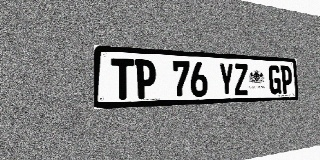6: (190, 62, 208, 97)
7: (171, 61, 190, 98)
G: (268, 65, 281, 94)
P: (135, 59, 156, 99), (280, 66, 293, 94)
T: (111, 58, 134, 100)
Y: (218, 63, 234, 96)
Z: (234, 63, 249, 96)
